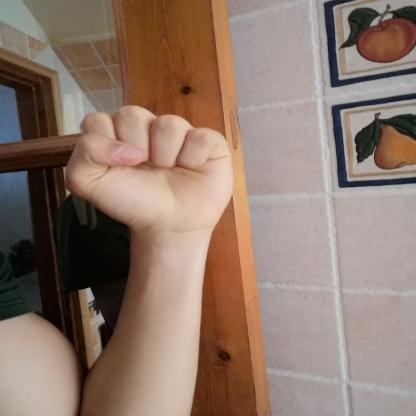SAD: (46, 97, 249, 246)
